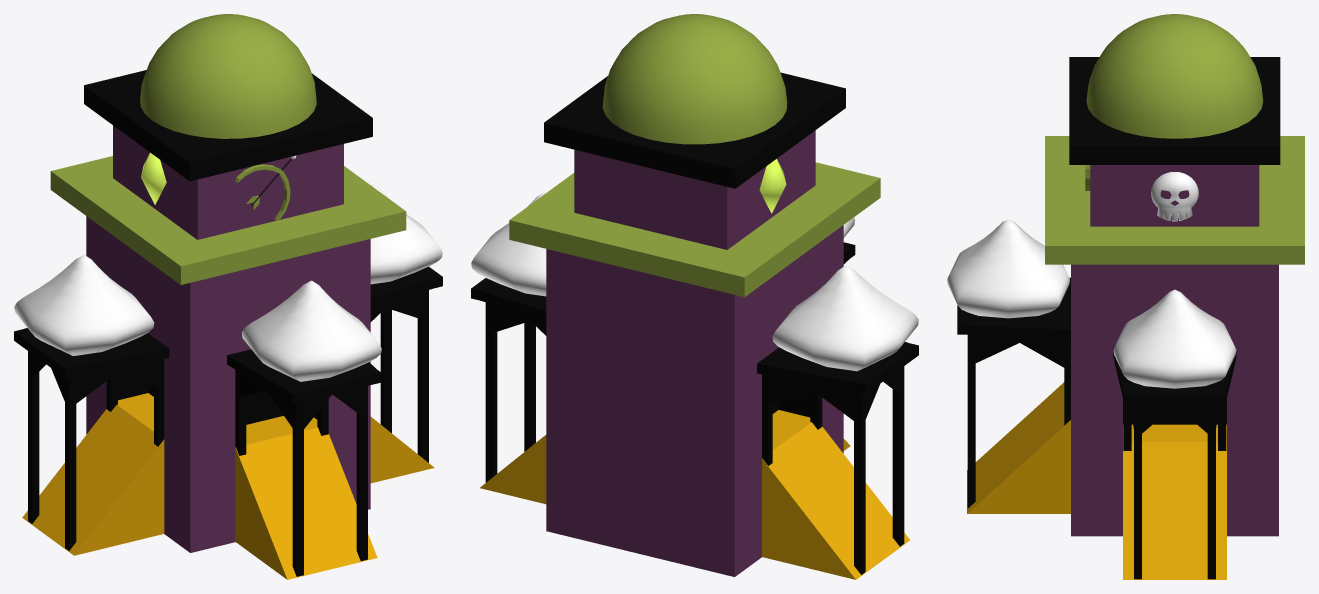
Rendered from BuildingGreen.fbx.
The picture shows the model from 3 angles, left to right: view 1: azimuth 30°, elevation 25°; view 2: azimuth 150°, elevation 25°; view 3: azimuth 270°, elevation 25°; orthographic projection. The views are drawn at different scales.
Parts seen in each view (by area): view 1: BuildingGreen; view 2: BuildingGreen; view 3: BuildingGreen.
Part boxes in pixels (x1,y1,x2,y2): BuildingGreen: (14, 14, 442, 579); BuildingGreen: (471, 14, 918, 579); BuildingGreen: (947, 14, 1304, 579).
Bounding box in the file's own units: 438 × 499 × 344.
